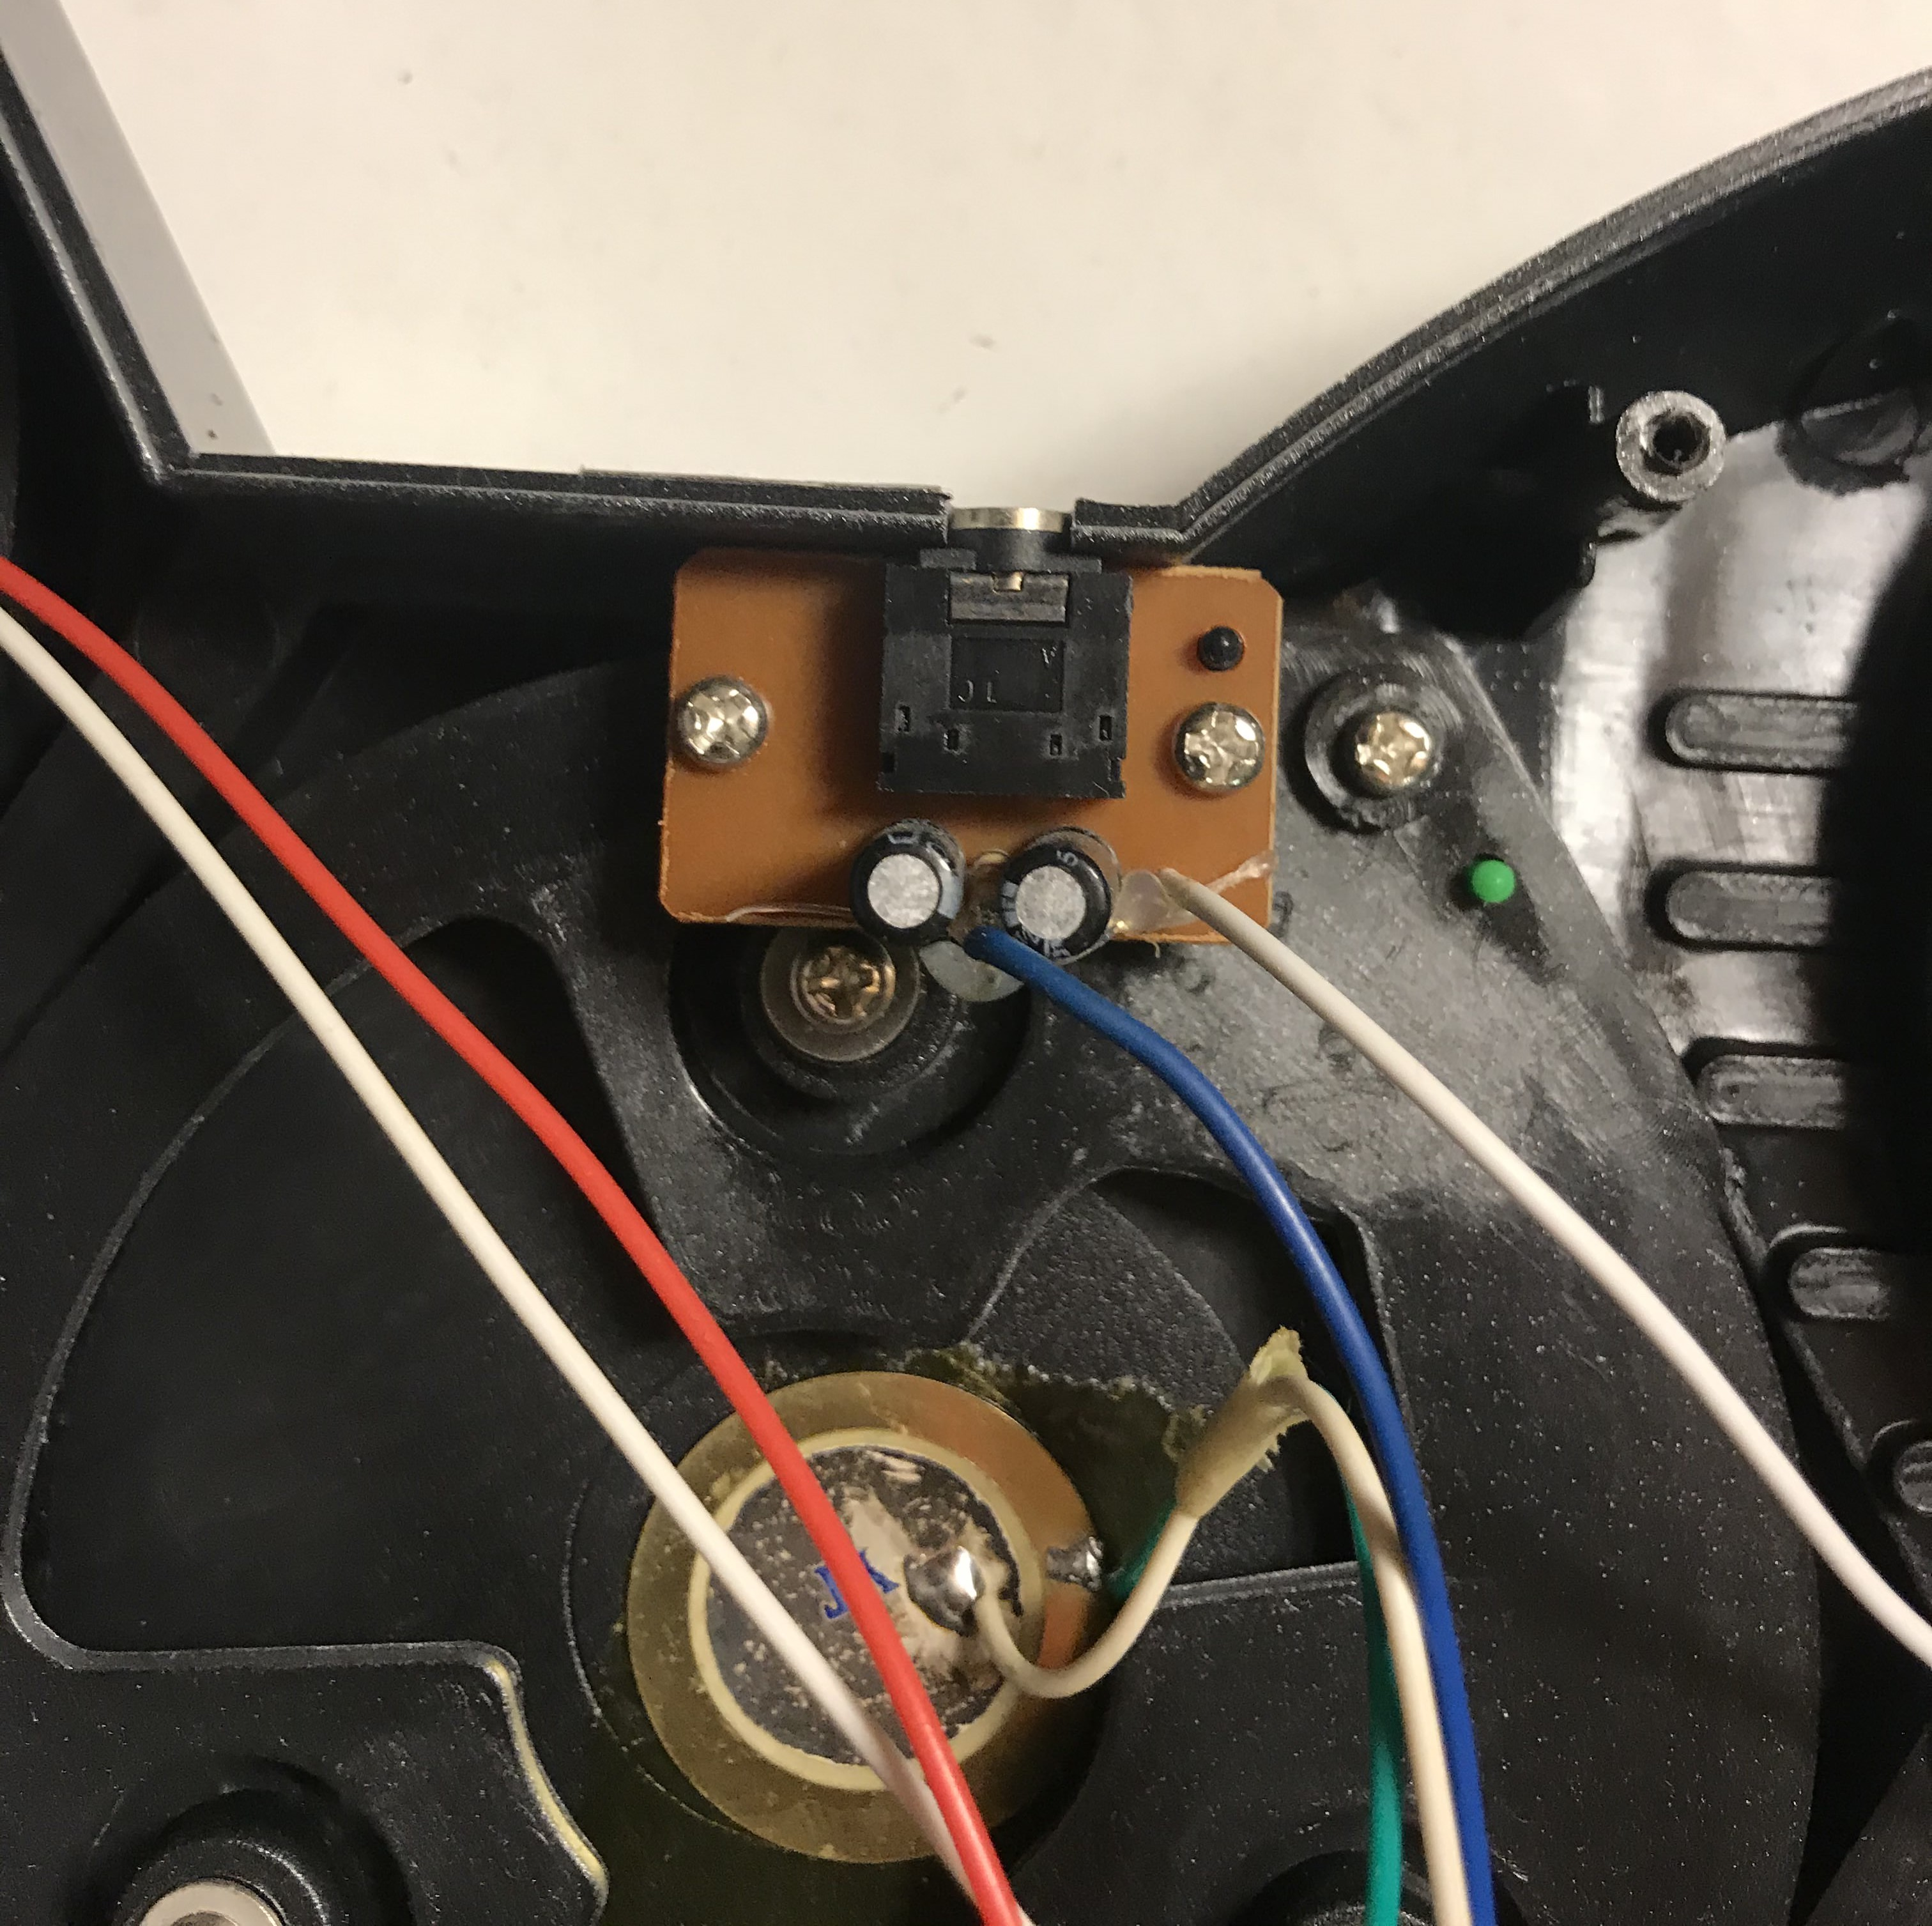Capacitor: (994, 829, 1126, 967), (843, 818, 968, 947)
